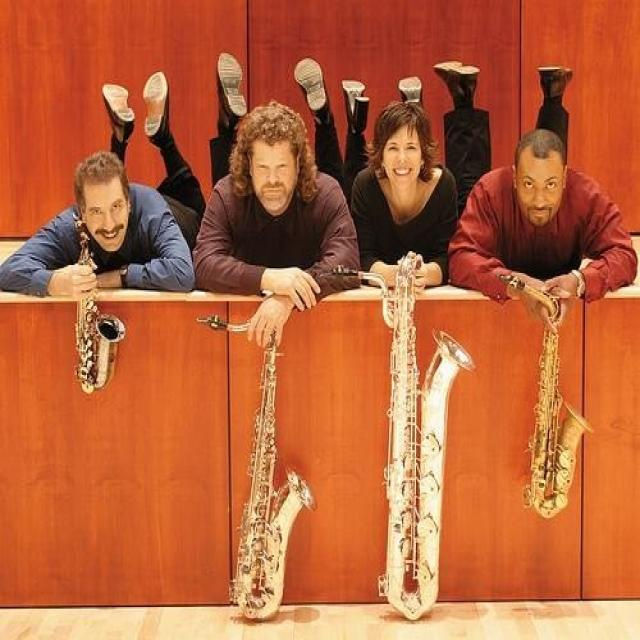saxophone: (317, 244, 479, 619), (192, 302, 317, 620), (491, 265, 597, 528), (65, 226, 129, 398)
